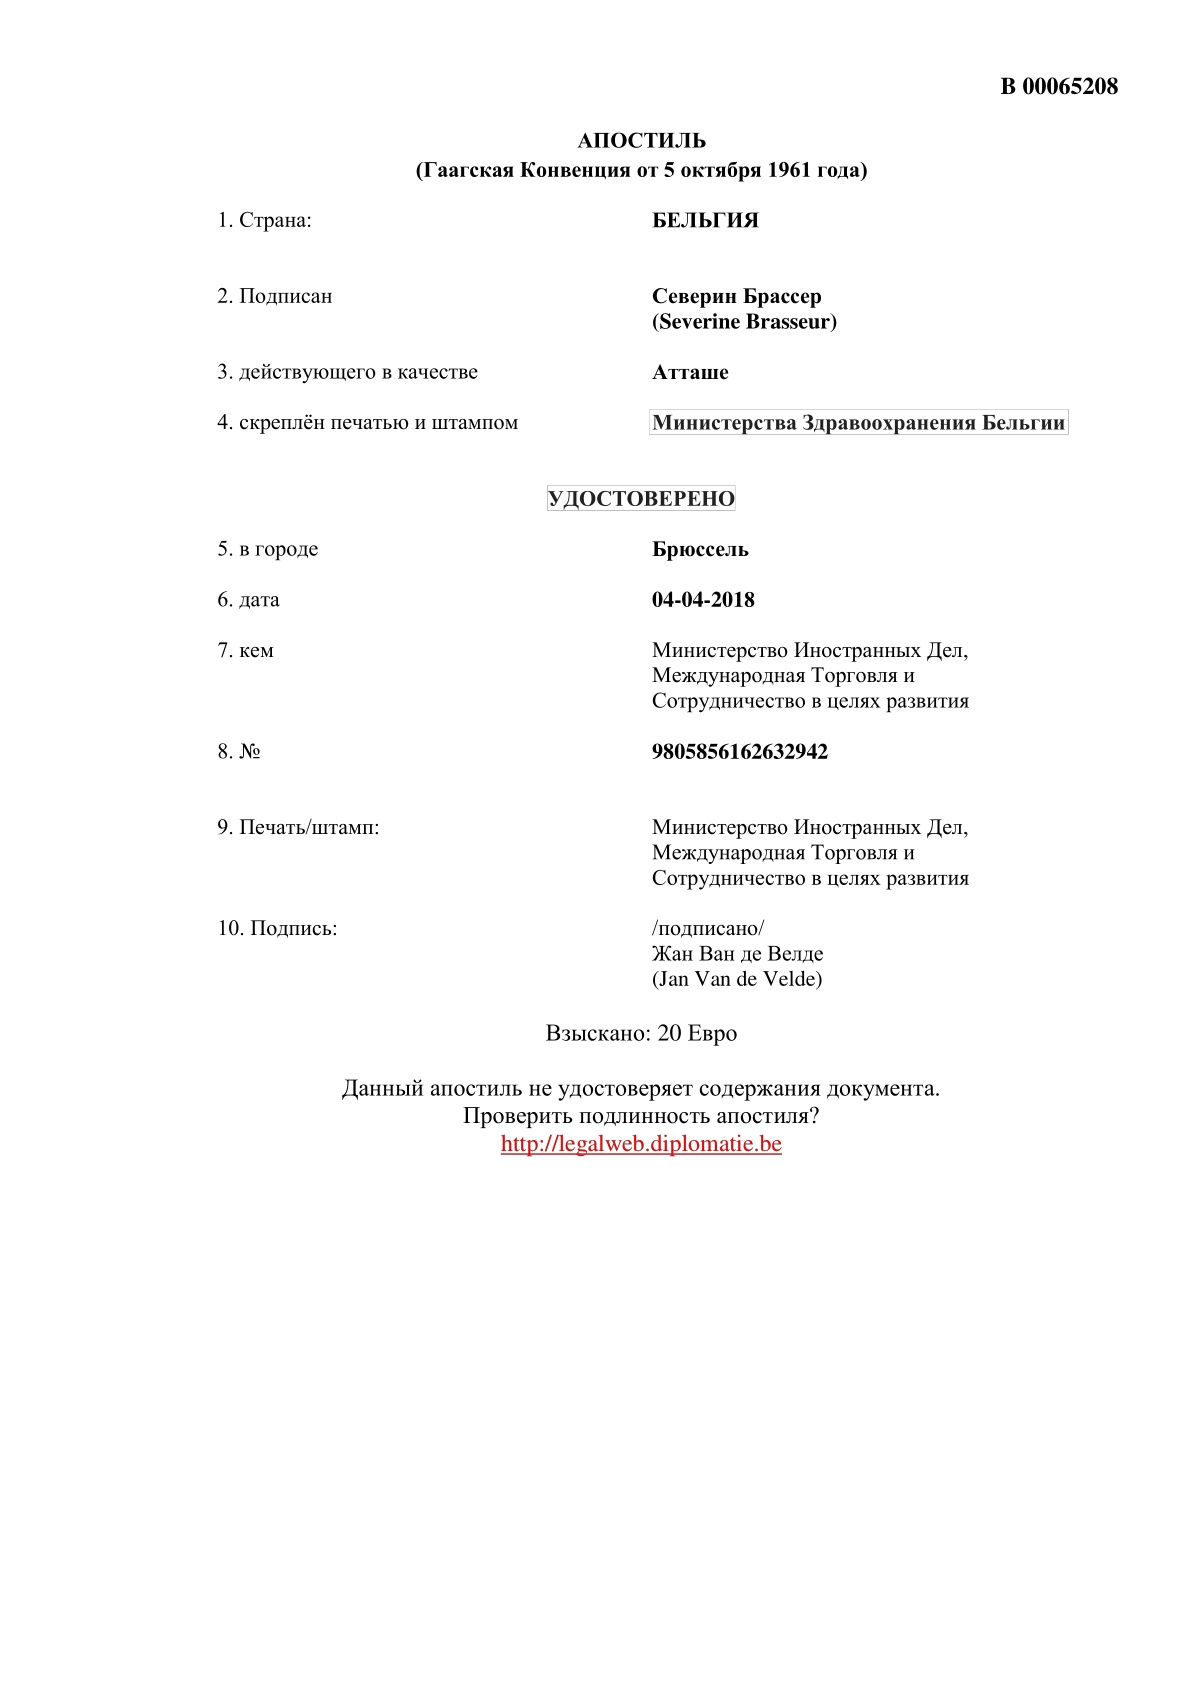nolines: (210, 537, 971, 991), (214, 202, 1070, 435)
